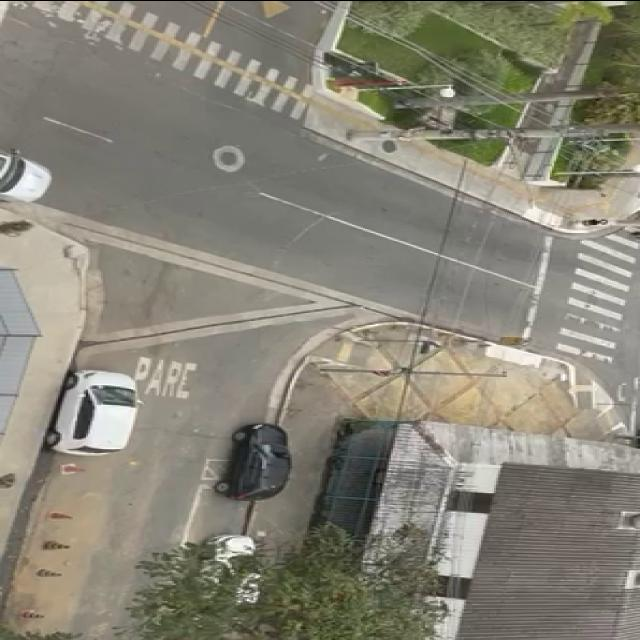car: (36, 364, 153, 462), (206, 414, 306, 508), (189, 531, 271, 640), (0, 142, 57, 216)
